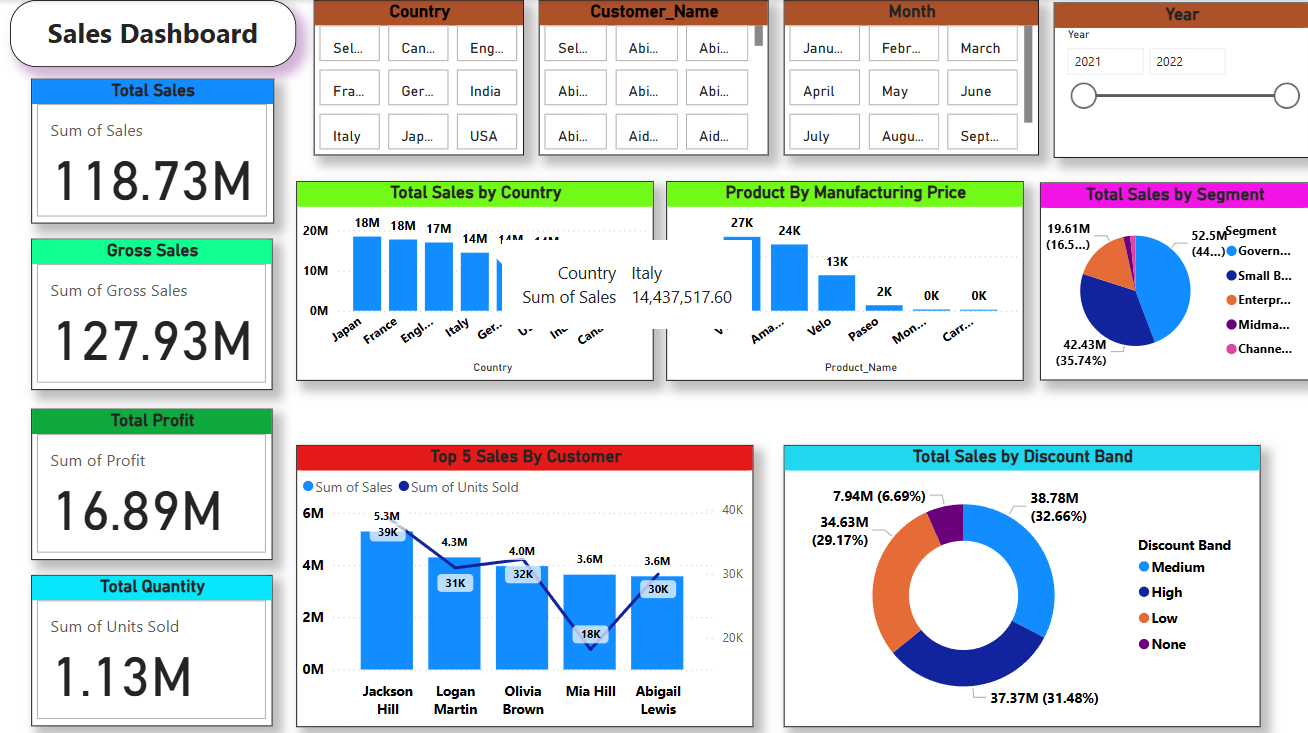

Layout of this report page (visuals, bound fields, positions):
{"tool":"powerbi","page":{"name":"Page 1","canvas":[1280,720],"ordinal":0},"visuals":[{"type":"textbox","box":[9.6,0,279.9,65.9],"z":0},{"type":"advancedSlicerVisual","fields":{"Values":["Sales Data.Country"]},"box":[307.4,0,205.8,152.3],"z":1000},{"type":"advancedSlicerVisual","fields":{"Values":["Sales Data.Customer_Name"]},"box":[526.9,0,225,152.3],"z":2000},{"type":"advancedSlicerVisual","fields":{"Values":["Sales Data.Date.Variation.Date Hierarchy.Month"]},"box":[767.1,0,249.7,152.3],"z":3000},{"type":"slicer","title":"Year","fields":{"Values":["Sales Data.Date.Variation.Date Hierarchy.Year"]},"box":[1030.5,2.7,249.7,152.3],"z":4000},{"type":"cardVisual","title":"Total Sales","fields":{"Data":["Sales Data.Sales"]},"box":[30.2,76.8,237.4,141.3],"z":5000},{"type":"cardVisual","title":"Gross Sales","fields":{"Data":["Sales Data.Gross Sales"]},"box":[30.2,233.3,236,148.2],"z":6000},{"type":"cardVisual","title":"Total Profit","fields":{"Data":["Sales Data.Profit"]},"box":[30.2,399.3,236,148.2],"z":7000},{"type":"cardVisual","title":"Total Quantity","fields":{"Data":["Sales Data.Units Sold"]},"box":[30.2,562.6,236,148.2],"z":8000},{"type":"columnChart","title":"Total Sales by Country","fields":{"Category":["Sales Data.Country"],"Y":["Sales Data.Sales"]},"box":[289.5,177,349.9,194.9],"z":9000},{"type":"columnChart","title":"Product By Manufacturing Price","fields":{"Category":["Sales Data.Product_Name"],"Y":["Sales Data.Manufacturing Price"]},"box":[651.8,177,349.9,194.9],"z":10000},{"type":"pieChart","title":"Total Sales by Segment","fields":{"Y":["Sales Data.Sales"],"Category":["Sales Data.Segment"]},"box":[1016.8,178.4,263.5,193.5],"z":11000},{"type":"lineClusteredColumnComboChart","title":"Top 5 Sales By Customer","fields":{"Category":["Sales Data.Customer_Name"],"Y":["Sales Data.Sales"],"Y2":["Sales Data.Units Sold"]},"box":[289.5,435,447.3,275.8],"z":12000},{"type":"donutChart","title":"Total Sales by Discount Band","fields":{"Y":["Sales Data.Sales"],"Category":["Sales Data.Discount Band"]},"box":[767.1,435,466.6,275.8],"z":13000}]}

Visuals, with their boxes in screenshot pixels (x1, y1, x2, y2), scaled from the page's 1280x720 canvas onto the 1308x733 screenshot:
textbox: 10 0 296 67
advancedSlicerVisual - Sales Data.Country: 314 0 524 155
advancedSlicerVisual - Sales Data.Customer_Name: 538 0 768 155
advancedSlicerVisual - Sales Data.Date.Variation.Date Hierarchy.Month: 784 0 1039 155
"Year" slicer: 1053 3 1307 158
"Total Sales" cardVisual: 31 78 273 222
"Gross Sales" cardVisual: 31 238 272 388
"Total Profit" cardVisual: 31 407 272 557
"Total Quantity" cardVisual: 31 573 272 724
"Total Sales by Country" columnChart: 296 180 653 379
"Product By Manufacturing Price" columnChart: 666 180 1024 379
"Total Sales by Segment" pieChart: 1039 182 1307 379
"Top 5 Sales By Customer" lineClusteredColumnComboChart: 296 443 753 724
"Total Sales by Discount Band" donutChart: 784 443 1261 724
